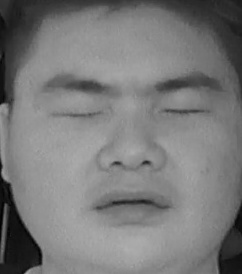blink: (162, 95, 215, 125), (54, 100, 105, 130)
mouth: (93, 179, 174, 229)
